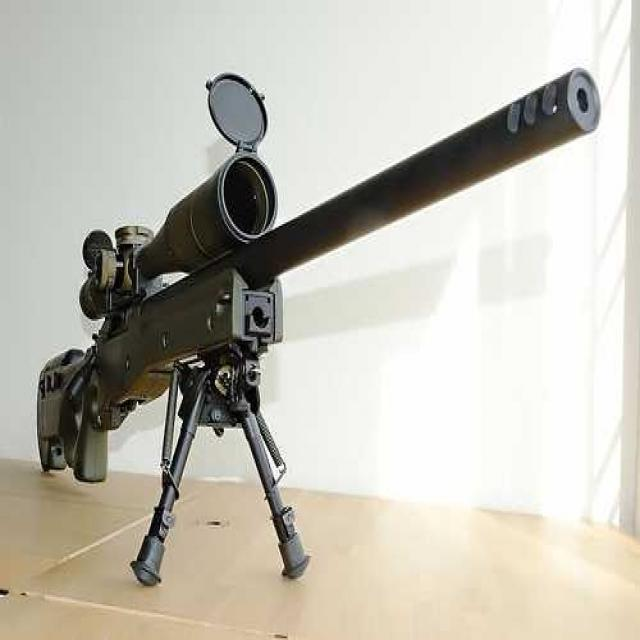weapon: (27, 38, 593, 562)
